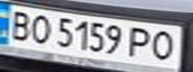1: (69, 18, 90, 52)
5: (51, 15, 75, 48), (87, 19, 109, 54)
9: (103, 22, 127, 56)
B: (3, 8, 36, 41)
O: (148, 28, 181, 62), (24, 12, 54, 45)
P: (124, 25, 157, 60)
